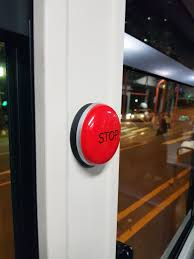bell: (66, 100, 126, 172)
